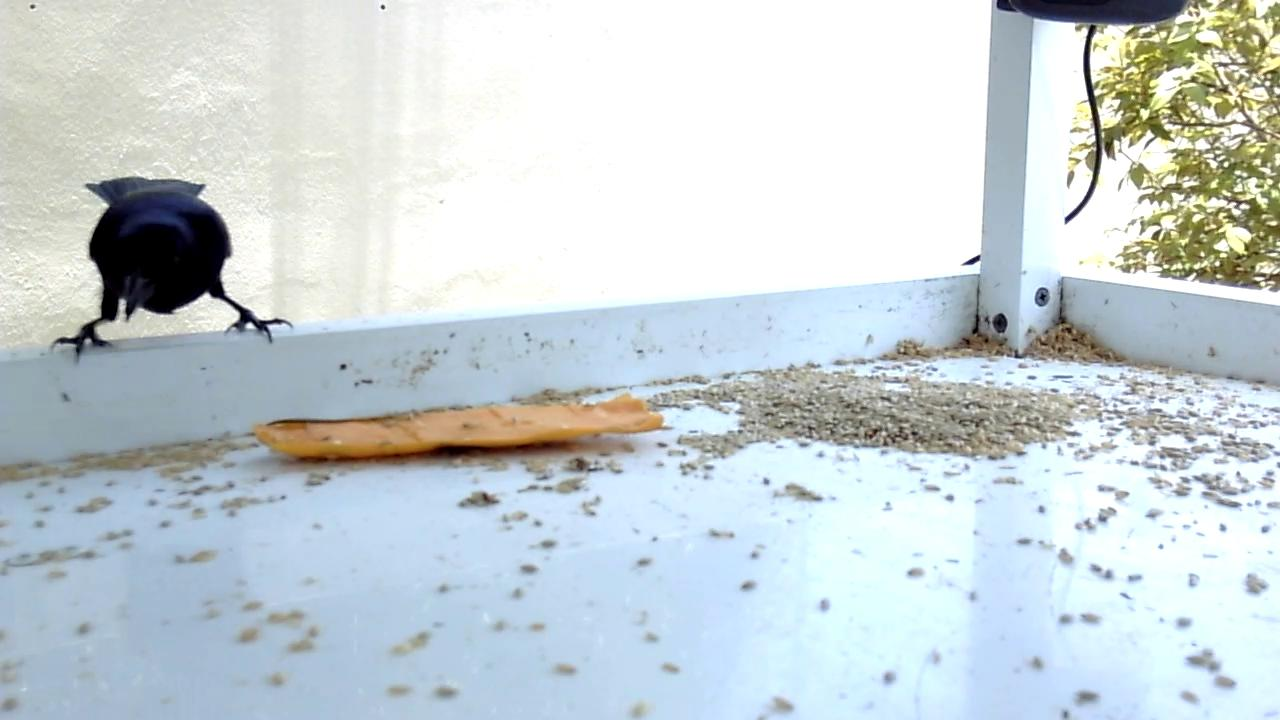chupim: (46, 170, 300, 372)
